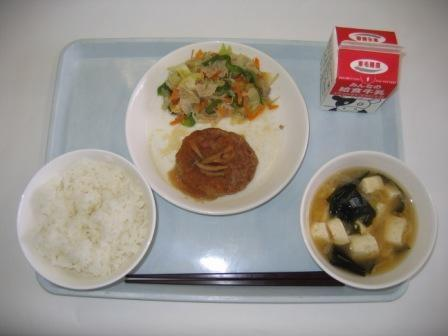Meat: (170, 130, 267, 208)
Milk: (315, 22, 412, 125)
Rice: (23, 157, 150, 289)
Soups: (302, 155, 442, 293)
salad with sauce: (147, 51, 286, 122)
